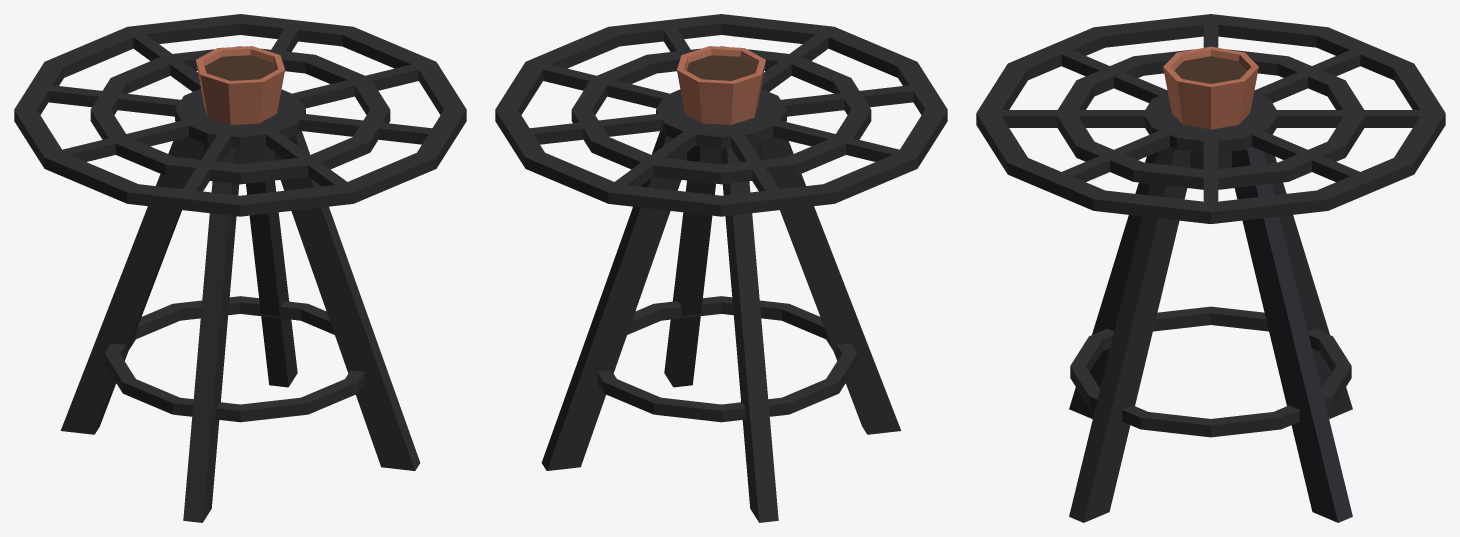
File: FN_Table_Garden_Round.glb
3 renders of one model, left to right at view 1: azimuth 30°, elevation 25°; view 2: azimuth 150°, elevation 25°; view 3: azimuth 270°, elevation 25°, orthographic. The views are drawn at different scales.
Visible parts, largest first — view 1: FN_Table_Garden_Round; view 2: FN_Table_Garden_Round; view 3: FN_Table_Garden_Round.
Part boxes in pixels (left/top/right/bottom): FN_Table_Garden_Round: left=14, top=14, right=466, bottom=522; FN_Table_Garden_Round: left=495, top=14, right=947, bottom=522; FN_Table_Garden_Round: left=976, top=14, right=1445, bottom=522.
Size of the model in its own units: 0.9 by 0.838 by 0.9.
1 material, 1 textured.
